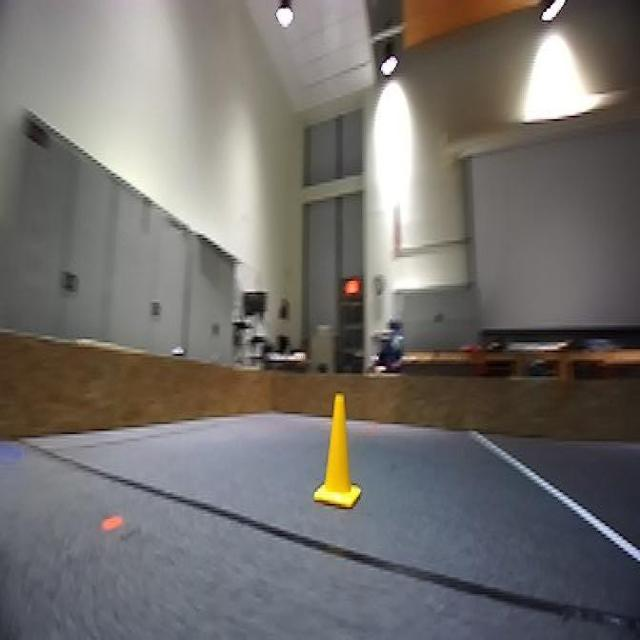frc_cone: (317, 397, 365, 519)
